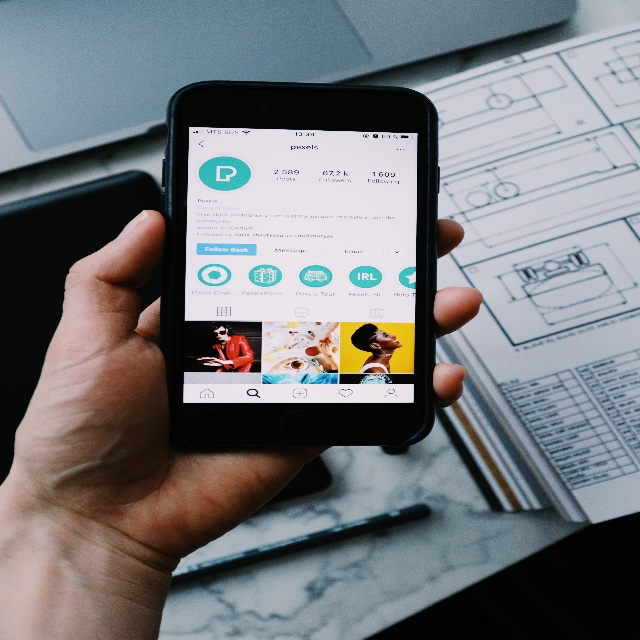Sin_guantes: (5, 205, 480, 539)
